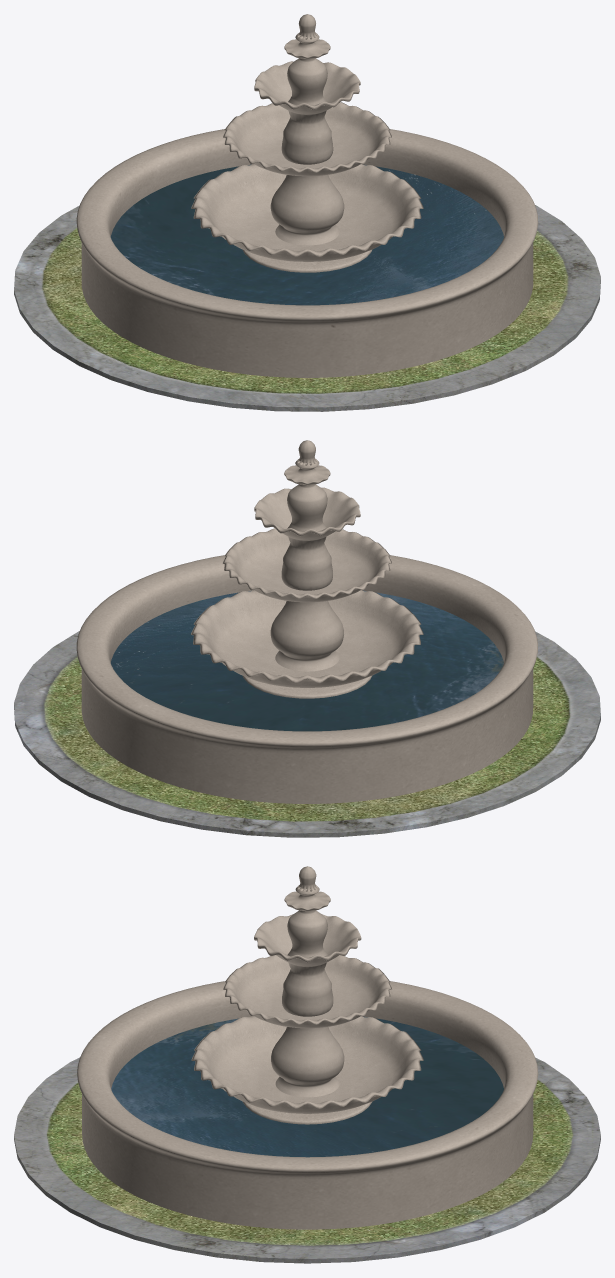
The model's file is fountain.obj.
3 views of the same model, one above another, from view 1: azimuth 30°, elevation 25°; view 2: azimuth 150°, elevation 25°; view 3: azimuth 270°, elevation 25° (orthographic).
Visible parts, largest first — view 1: Fountain_Model Fountain:fountain_1, Fountain_Model ground, Fountain:water Fountain_Model, Fountain_Model Fountain:fountain_6, Fountain_Model Fountain:fountain_3, Fountain_Model Fountain:fountain_4, Fountain_Model Fountain:fountain_2, Fountain_Model Fountain:fountain_5; view 2: Fountain_Model Fountain:fountain_1, Fountain_Model ground, Fountain:water Fountain_Model, Fountain_Model Fountain:fountain_6, Fountain_Model Fountain:fountain_3, Fountain_Model Fountain:fountain_4, Fountain_Model Fountain:fountain_2, Fountain_Model Fountain:fountain_5; view 3: Fountain_Model Fountain:fountain_1, Fountain_Model ground, Fountain:water Fountain_Model, Fountain_Model Fountain:fountain_6, Fountain_Model Fountain:fountain_3, Fountain_Model Fountain:fountain_4, Fountain_Model Fountain:fountain_2, Fountain_Model Fountain:fountain_5.
Part boxes in pixels (<box>): Fountain_Model Fountain:fountain_1: <box>76,129,538,377</box>; Fountain_Model ground: <box>14,205,600,411</box>; Fountain:water Fountain_Model: <box>110,164,503,305</box>; Fountain_Model Fountain:fountain_6: <box>191,164,423,261</box>; Fountain_Model Fountain:fountain_3: <box>223,102,391,176</box>; Fountain_Model Fountain:fountain_4: <box>254,61,360,164</box>; Fountain_Model Fountain:fountain_2: <box>270,175,344,245</box>; Fountain_Model Fountain:fountain_5: <box>284,14,330,105</box>; Fountain_Model Fountain:fountain_1: <box>76,555,537,803</box>; Fountain_Model ground: <box>14,631,600,837</box>; Fountain:water Fountain_Model: <box>110,590,503,731</box>; Fountain_Model Fountain:fountain_6: <box>191,590,423,687</box>; Fountain_Model Fountain:fountain_3: <box>222,528,391,602</box>; Fountain_Model Fountain:fountain_4: <box>254,487,360,590</box>; Fountain_Model Fountain:fountain_2: <box>270,601,343,671</box>; Fountain_Model Fountain:fountain_5: <box>284,440,330,531</box>; Fountain_Model Fountain:fountain_1: <box>77,981,538,1229</box>; Fountain_Model ground: <box>14,1057,600,1263</box>; Fountain:water Fountain_Model: <box>111,1016,503,1157</box>; Fountain_Model Fountain:fountain_6: <box>191,1016,423,1113</box>; Fountain_Model Fountain:fountain_3: <box>223,955,391,1028</box>; Fountain_Model Fountain:fountain_4: <box>254,914,361,1016</box>; Fountain_Model Fountain:fountain_2: <box>271,1027,344,1097</box>; Fountain_Model Fountain:fountain_5: <box>284,866,330,957</box>.
Bounding box in the file's own units: 56.42 × 28.95 × 56.42.
7 materials, 7 textured.
